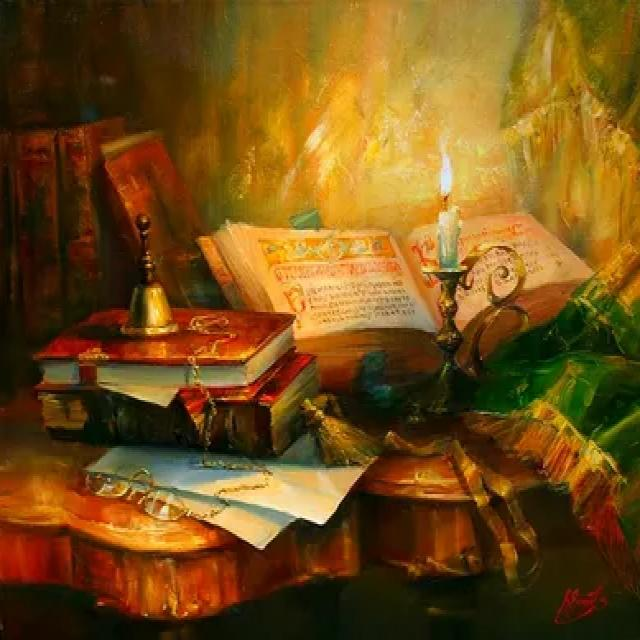book: (202, 195, 606, 378)
